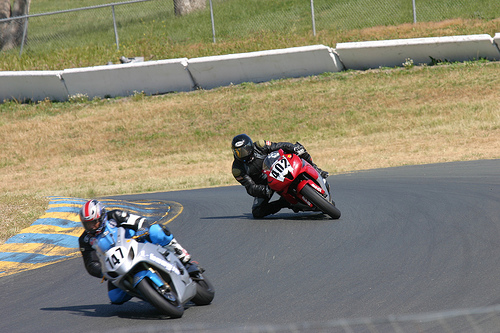helmet: (228, 135, 260, 161), (76, 206, 107, 231)
